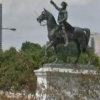Statue: (28, 1, 92, 57)
